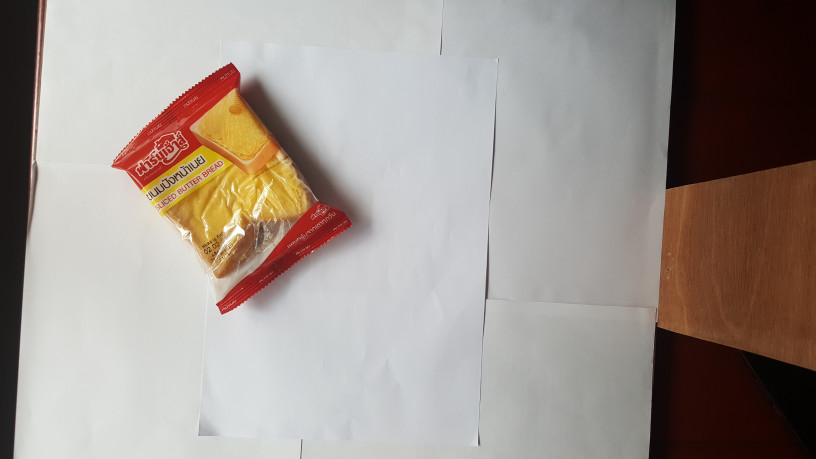farmhouse-bread-butter: (104, 57, 357, 318)
